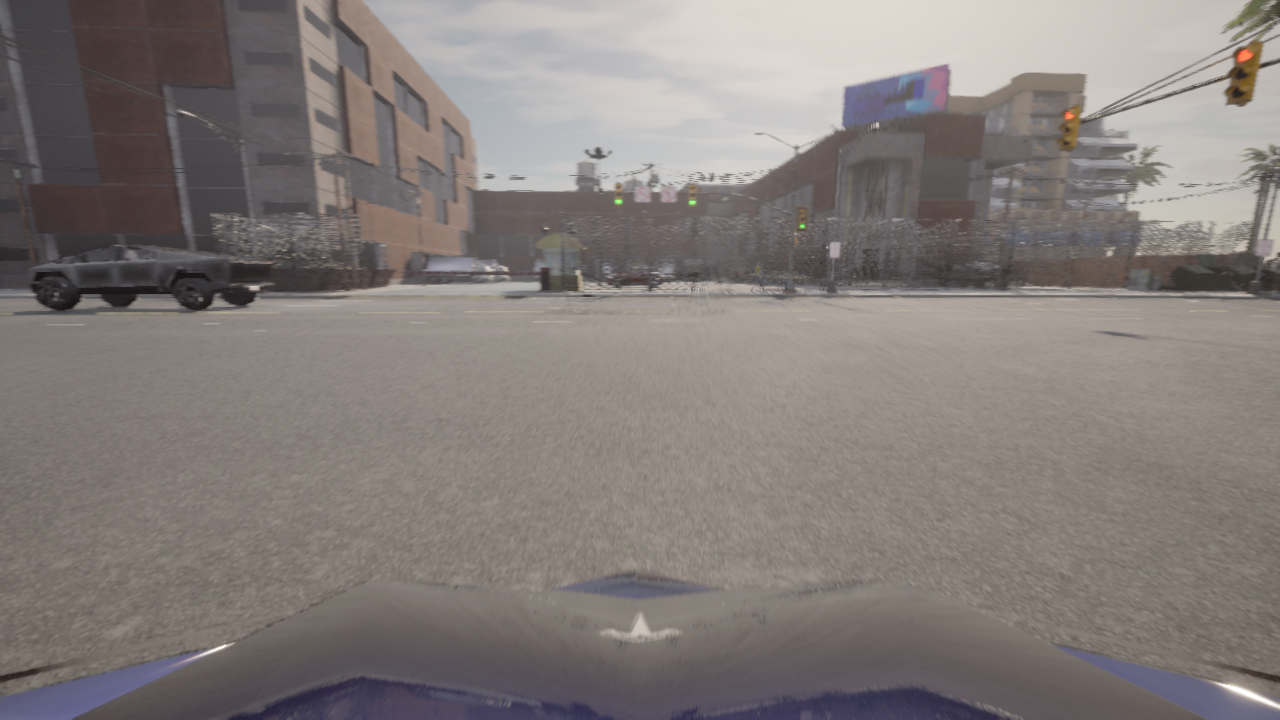cyclist: (0, 569, 1279, 719), (28, 244, 273, 311), (935, 261, 1011, 287), (425, 257, 492, 283), (607, 266, 663, 287), (456, 260, 509, 282), (729, 267, 769, 282), (767, 271, 811, 284), (658, 262, 675, 280), (743, 271, 766, 282), (533, 262, 543, 280), (603, 262, 612, 278), (762, 271, 773, 283), (605, 276, 608, 281)
pedestrian: (750, 261, 767, 292), (1259, 260, 1273, 284)
